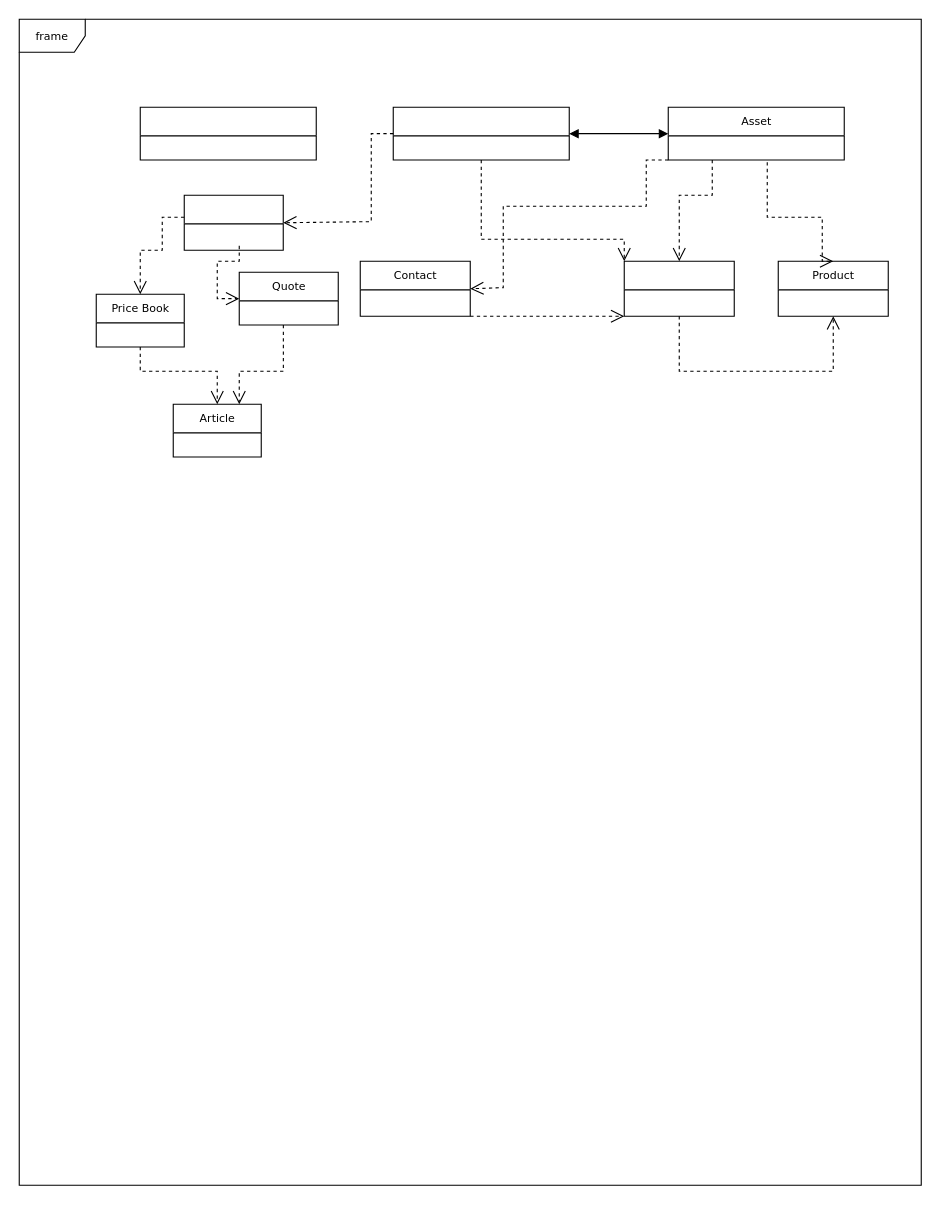
Some shapes in this 941 by 1205 pixel diagram are drawn without their labels. Here are the shapes that lost their labels. From the top down, the centre of each, then its label:
At (227,133): "Load".
At (480,133): "Account".
At (233,222): "Opportunity".
At (678,288): "Case".
